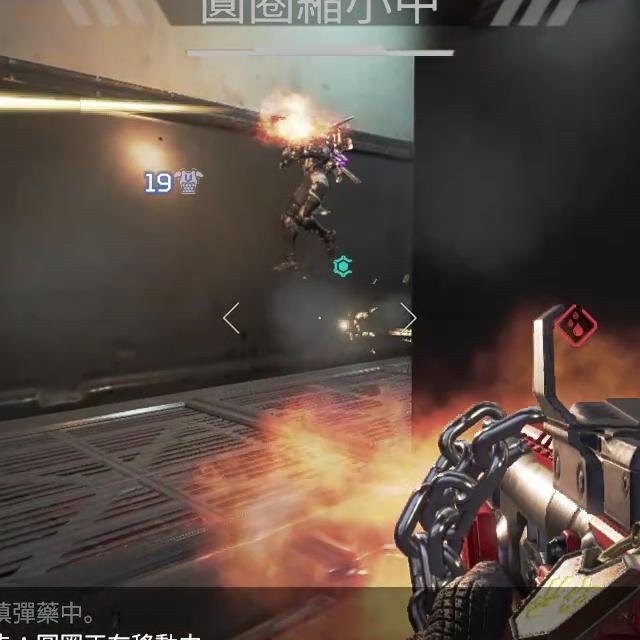avatar: (276, 116, 360, 270)
